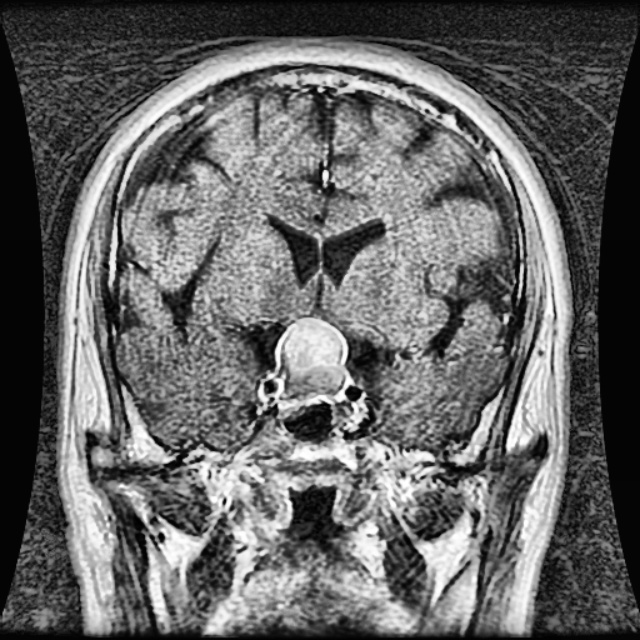Pituitary: (278, 315, 349, 404)
